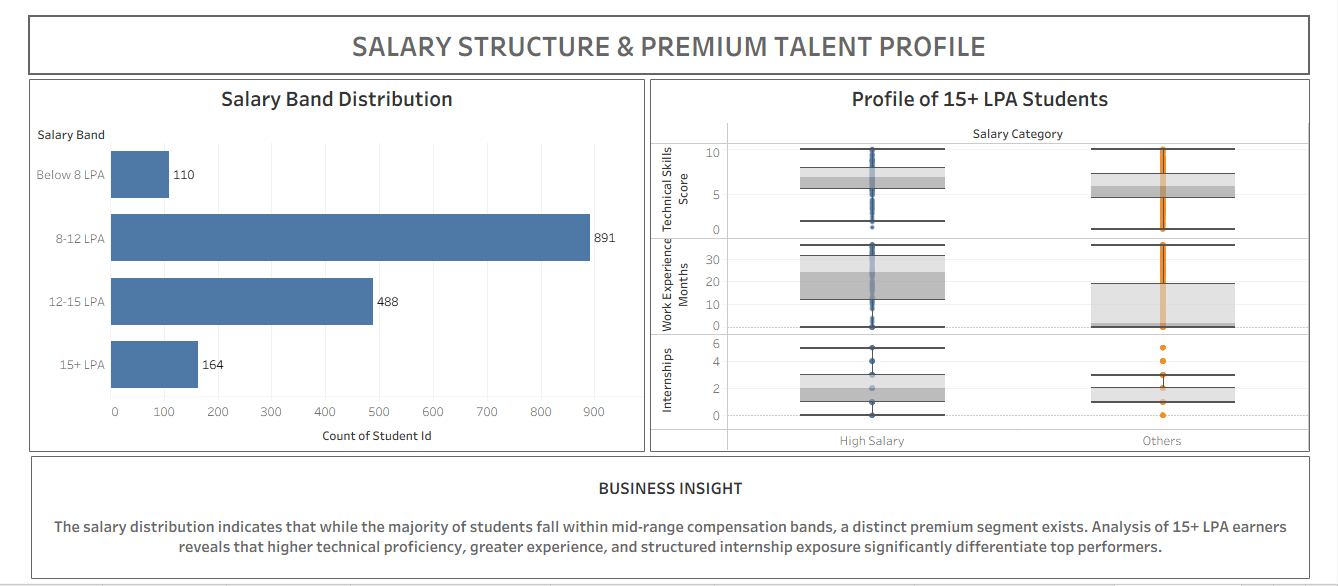

The page's visual inventory and layout, read from the dashboard file:
{"tool":"tableau","page":{"name":"Salary Deep Dive","canvas":[1000,1000],"units":"permille","ordinal":5},"visuals":[{"type":"text","box":[23.4,27.4,956.7,102.7]},{"type":"worksheet","title":"Salary Band Distribution","mark":"Automatic","rows":["Calculation_0813131046879232"],"cols":["Student_Id"],"box":[24.2,137,459.7,638.7]},{"type":"worksheet","title":"Profile of 15+ LPA Students","mark":"Circle","rows":["Technical_Skills_Score","Work_Experience_Months","Internships"],"cols":["Calculation_0813131051773953"],"box":[487.3,137,492.5,638.7]},{"type":"text","box":[25.4,782.5,954.5,210.6]}]}

Visuals, with their boxes on the dashboard's canvas, which has no fixed pixel size, in thousandths of its width and height (x1, y1, x2, y2). These are canvas units, not pixel positions in the 1338x586 screenshot, which may show the page scaled, cropped or inside an application window:
text: rect(23, 27, 980, 130)
"Salary Band Distribution" worksheet: rect(24, 137, 484, 776)
"Profile of 15+ LPA Students" worksheet (Circle marks): rect(487, 137, 980, 776)
text: rect(25, 782, 980, 993)
